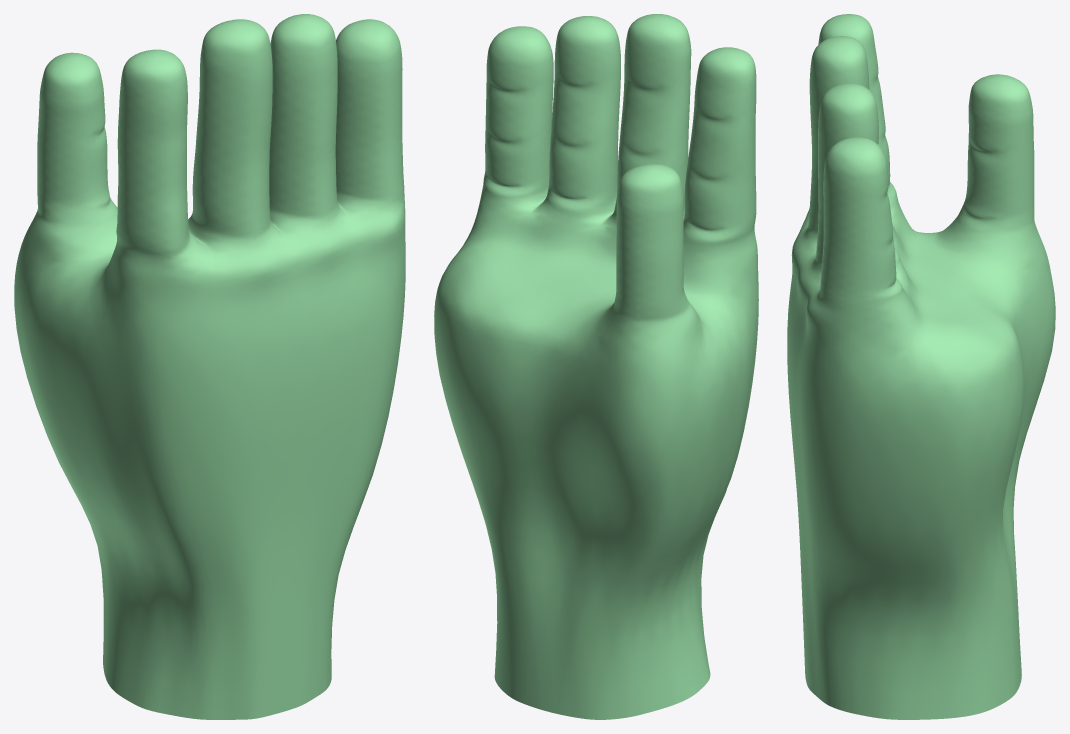
The model's file is hand.glb.
3 views of the same model, side by side, from view 1: azimuth 30°, elevation 25°; view 2: azimuth 150°, elevation 25°; view 3: azimuth 270°, elevation 25° (orthographic). The views are drawn at different scales.
Visible parts, largest first — view 1: Plane.1; view 2: Plane.1; view 3: Plane.1.
Part boxes in pixels (x1=…): Plane.1: x1=14, y1=14, x2=405, y2=719; Plane.1: x1=434, y1=14, x2=758, y2=719; Plane.1: x1=787, y1=14, x2=1055, y2=719.
Size of the model in its own units: 18.1 by 37.2 by 14.44.
